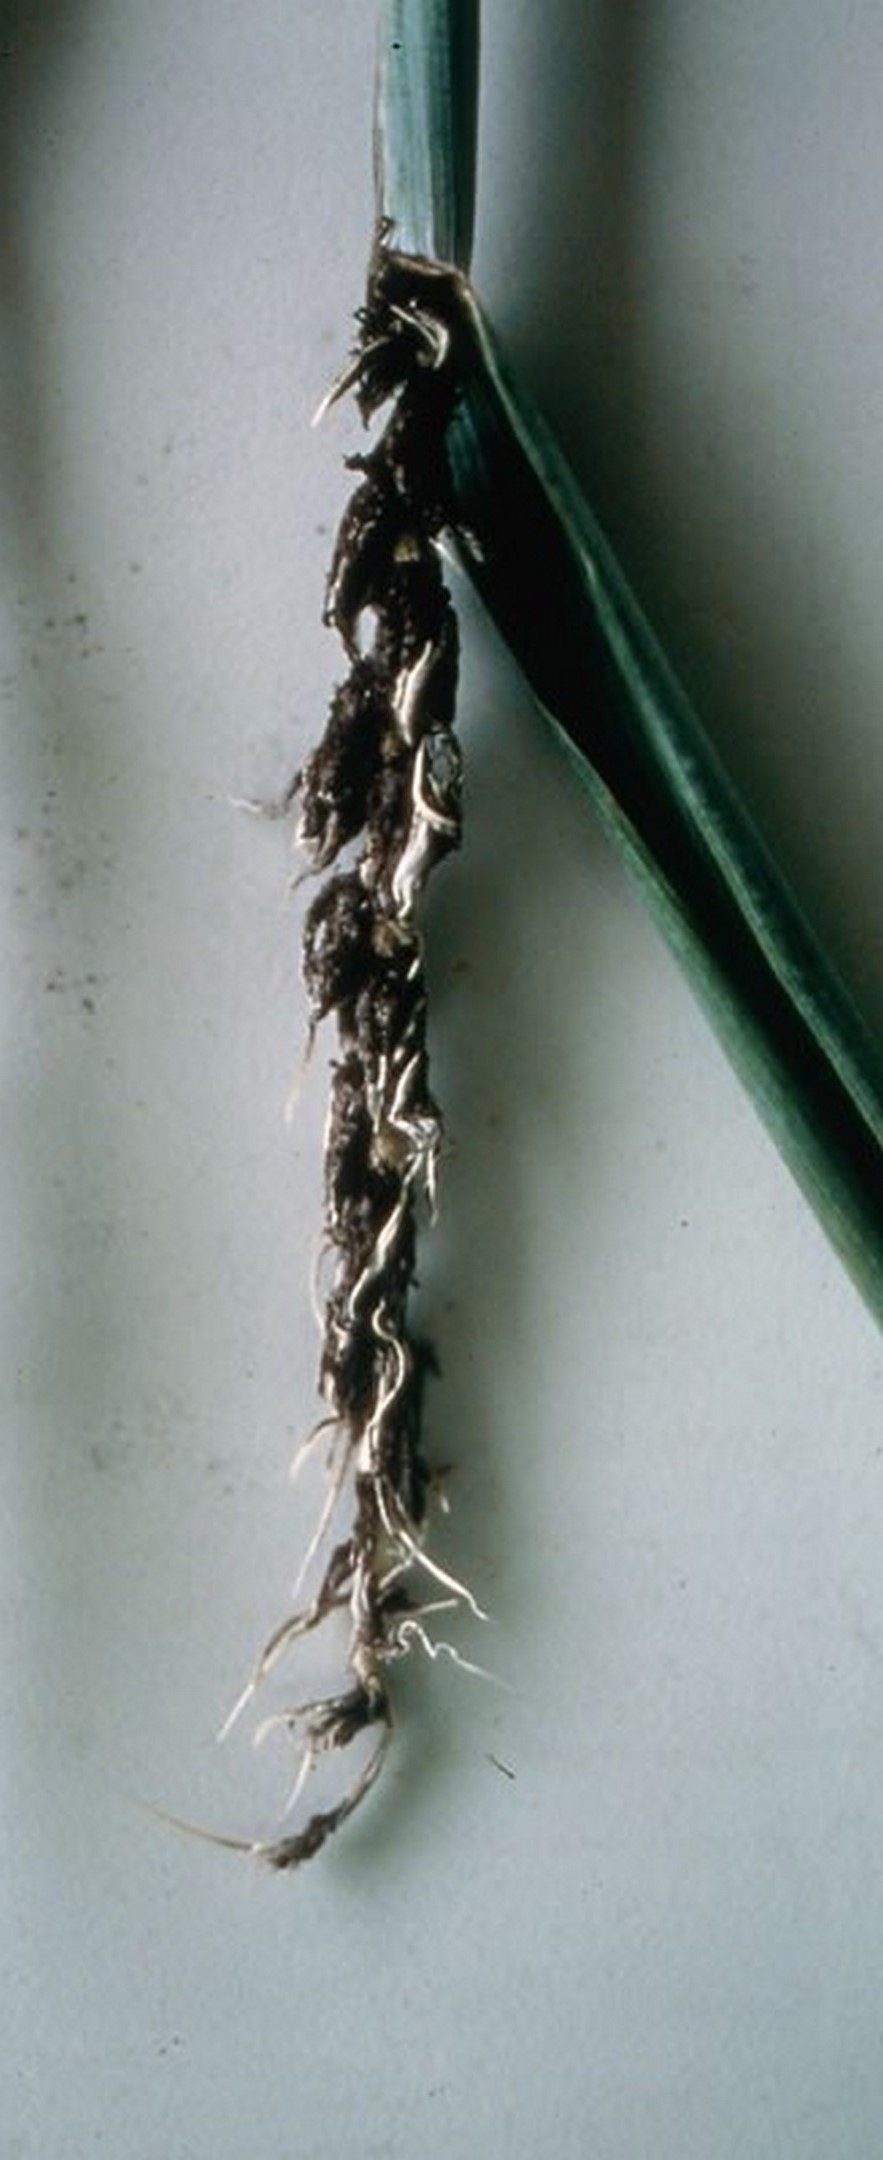Wheat Loose Smut: (219, 236, 574, 1780)
